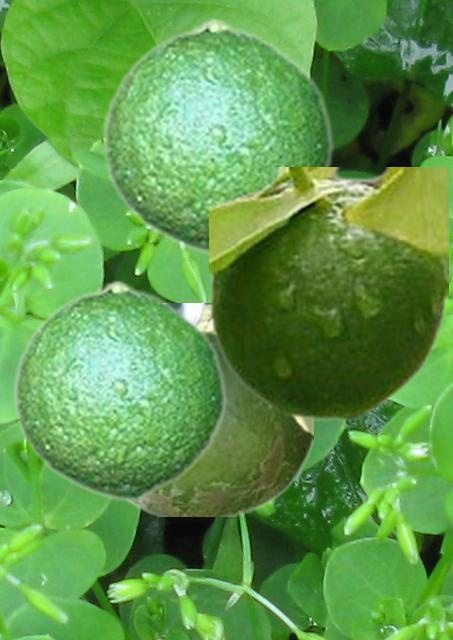dalandan: (209, 167, 447, 419), (100, 17, 333, 256), (11, 279, 226, 501), (127, 303, 312, 515)
